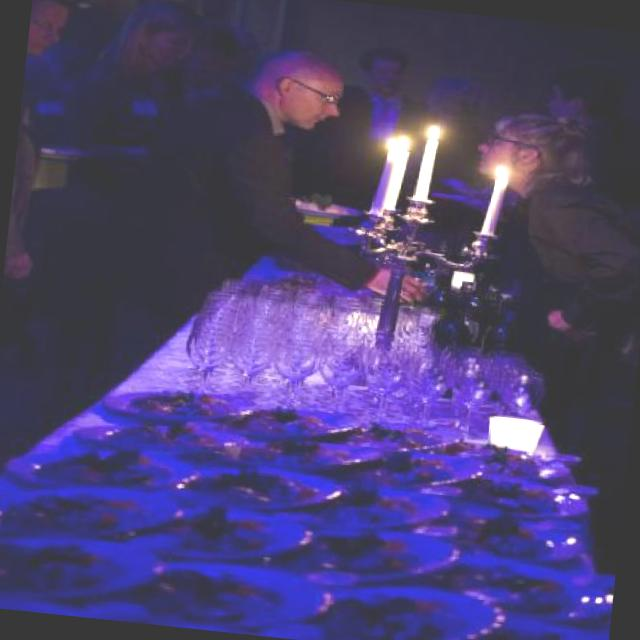Person: (20, 24, 449, 391)
